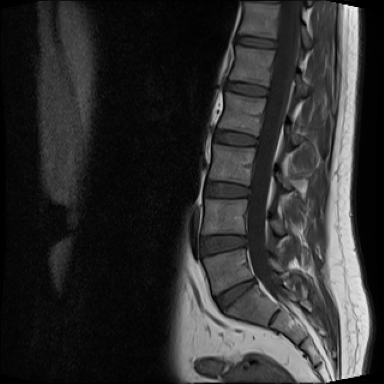Lumbar Disc Bulge (LDB): (212, 272, 262, 318), (192, 230, 255, 263)
Normal IVD: (203, 122, 264, 153), (197, 178, 261, 204), (222, 75, 275, 102), (230, 32, 282, 53)
Spinal Stenosis (SS): (238, 228, 255, 253), (247, 274, 260, 292)
